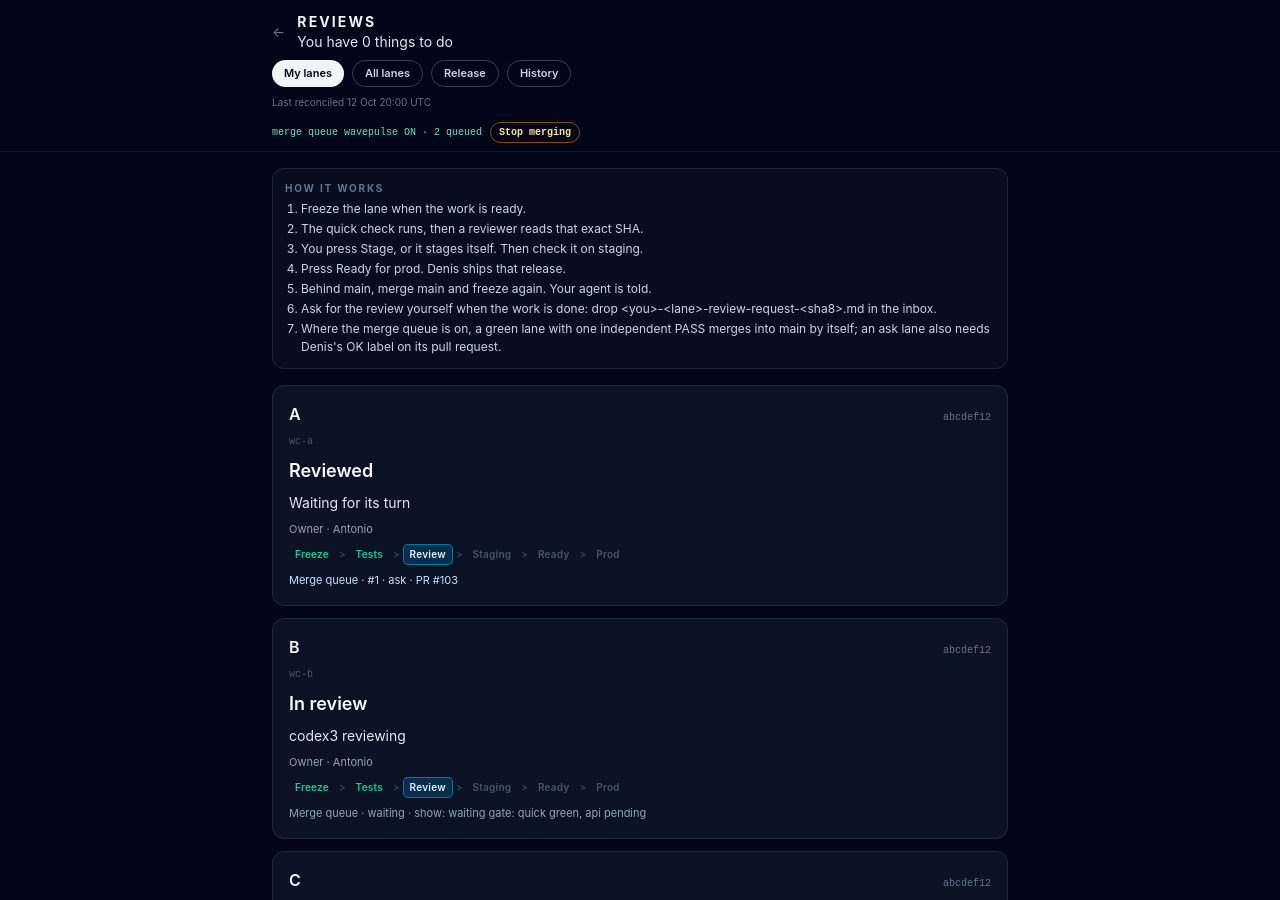
Test: ReviewQueue merge queue › shows each card's queue line and lets an admin flip the kill switch
Expected: the heading "A" is shown, [289,402,301,426]
Expected: the element with test id "merge-queue-wavepulse" shows "merge queue wavepulse ON · 2 queued", [272,122,580,142]
Click the button with test id "merge-queue-toggle-wavepulse": click(535, 132) [490,122,580,142]
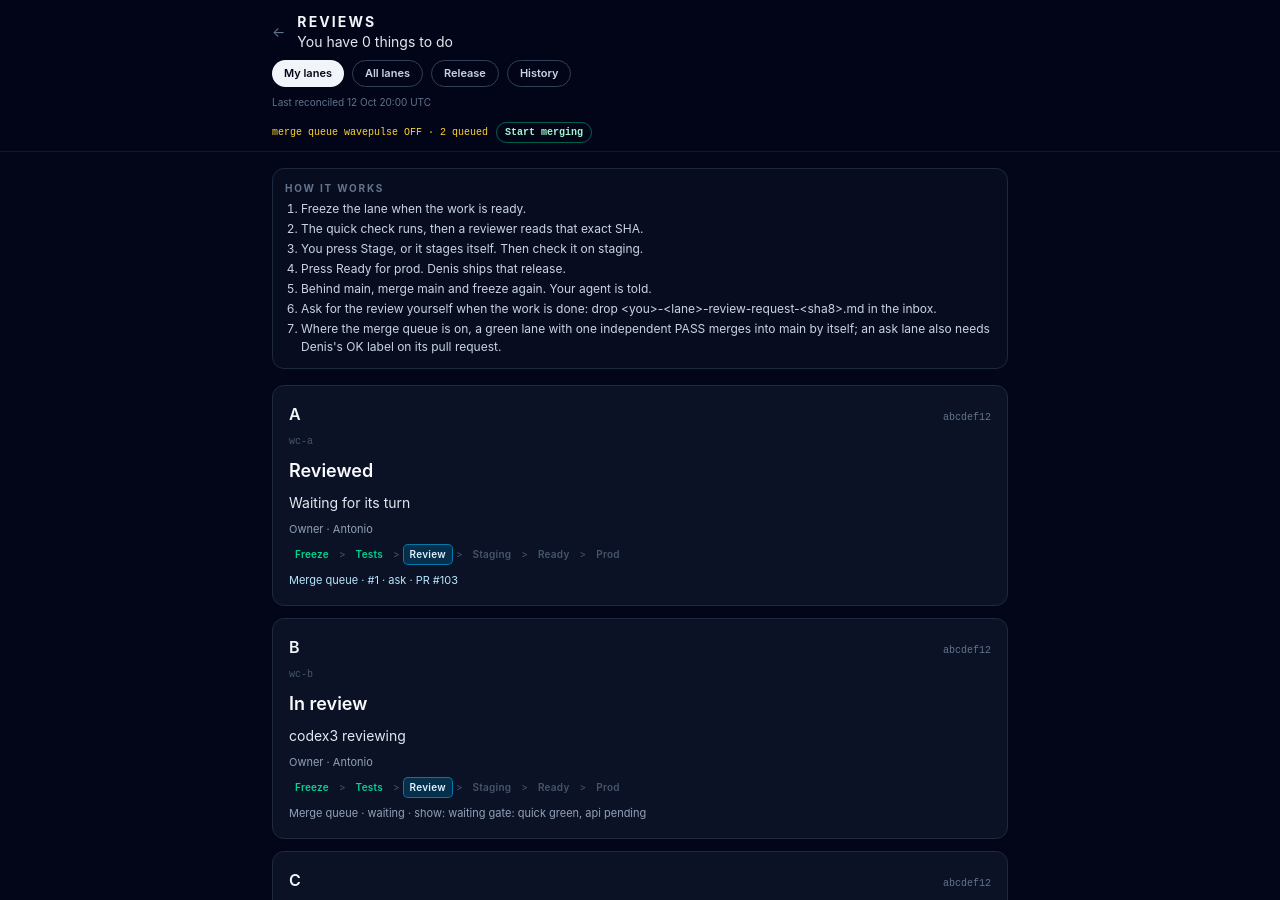
Now the element with test id "merge-queue-wavepulse" shows "OFF", box [404,126,422,138]
Now the button with test id "merge-queue-toggle-wavepulse" reads "Start merging", box [496,122,592,142]
